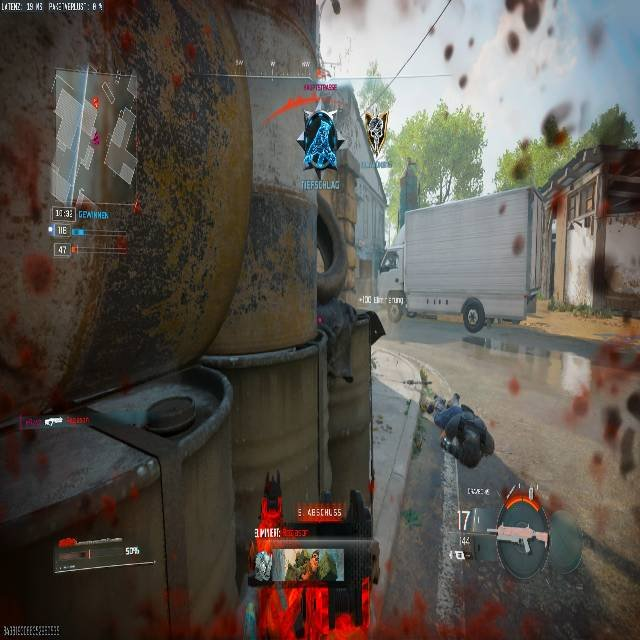player: (299, 106, 339, 170)
